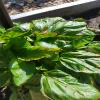Bell_pepper leaf spot: (39, 69, 98, 99), (15, 45, 64, 62), (60, 52, 99, 73), (55, 18, 93, 35), (33, 31, 62, 43), (11, 23, 33, 34)
